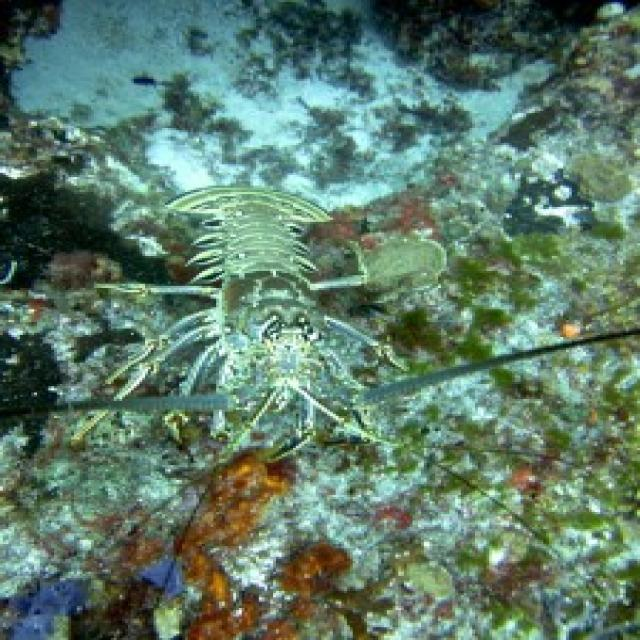lobsters: (88, 97, 576, 473)
